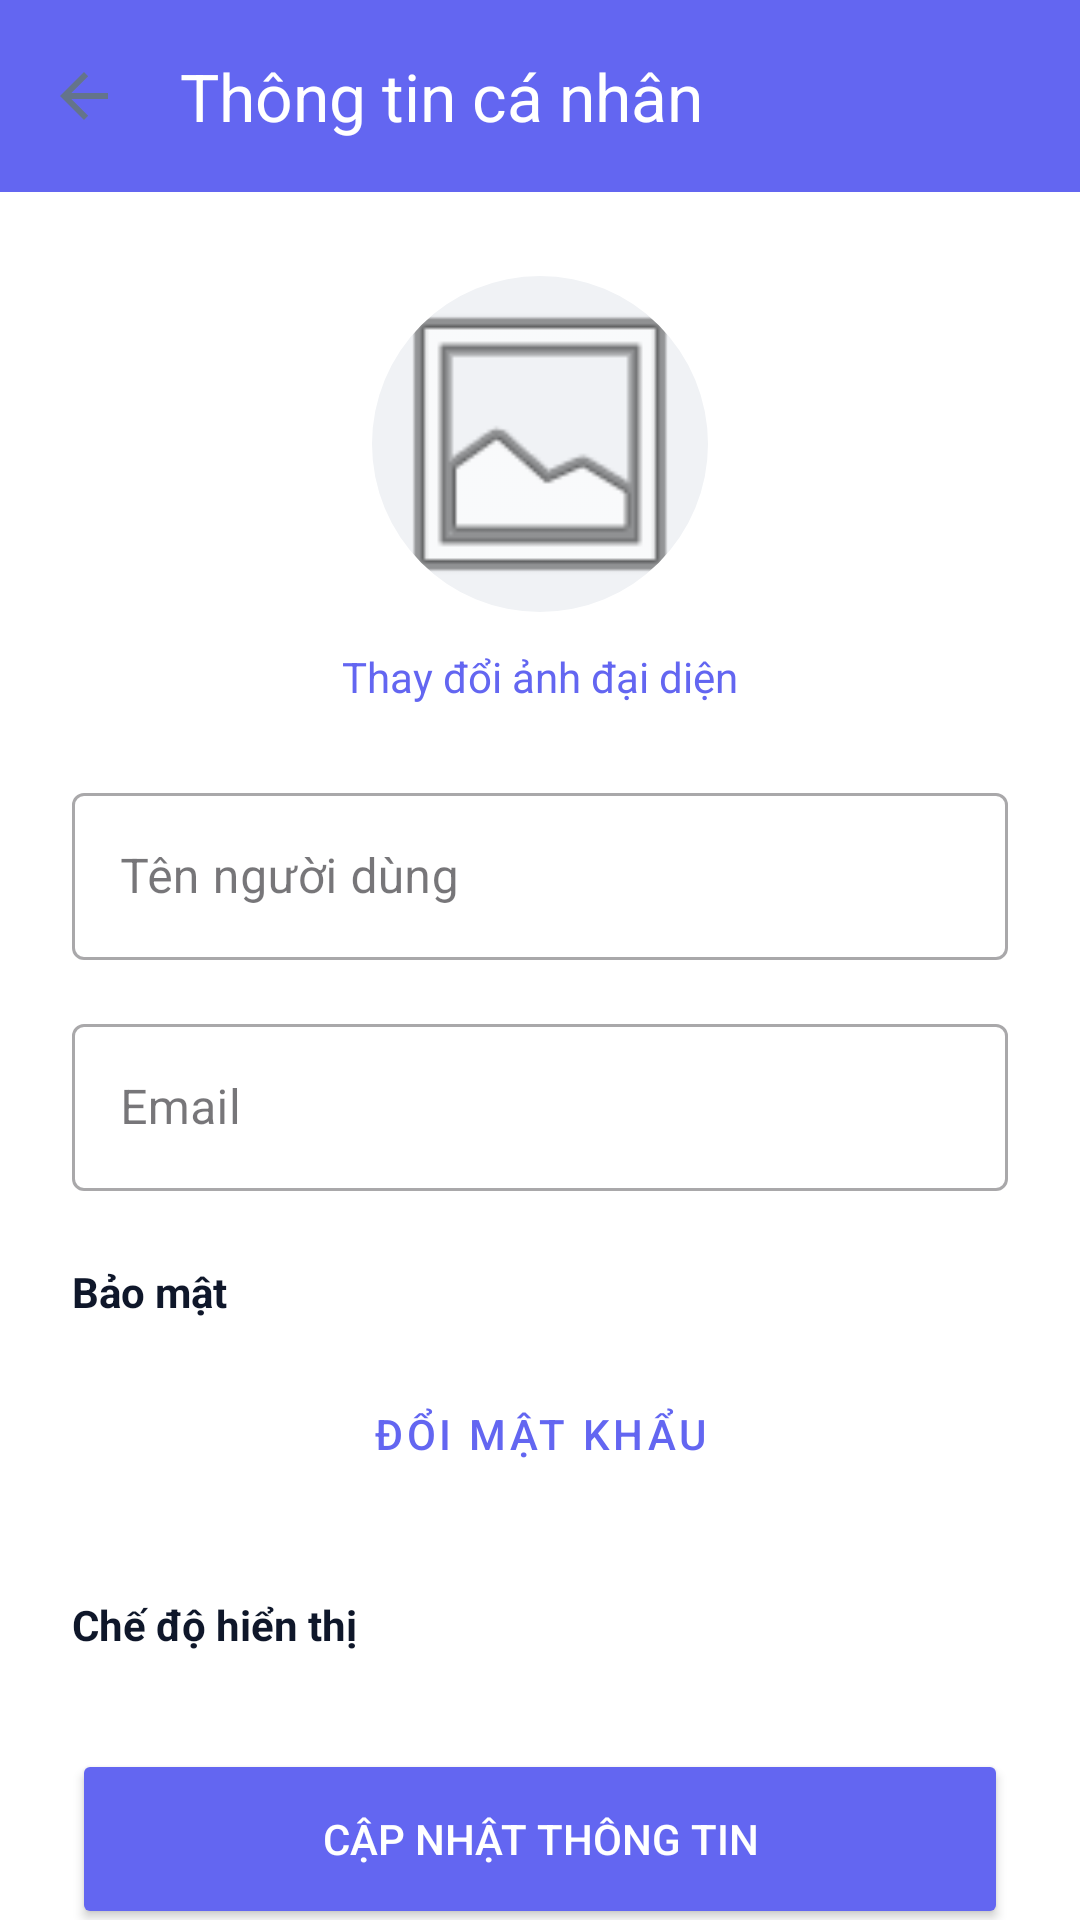

Screen size 1080x1920. Icon name, then its center in pixels as [x,y]:
gallery: [540,444]
